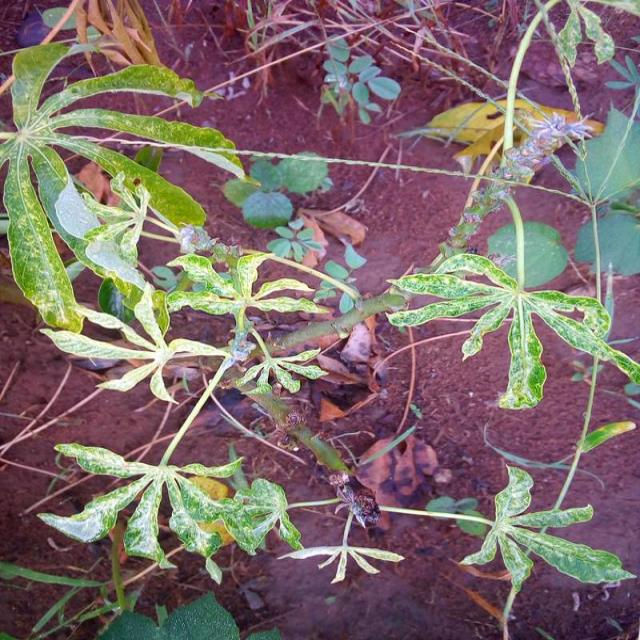cassava leaf: (1, 35, 248, 334), (384, 218, 638, 410)
